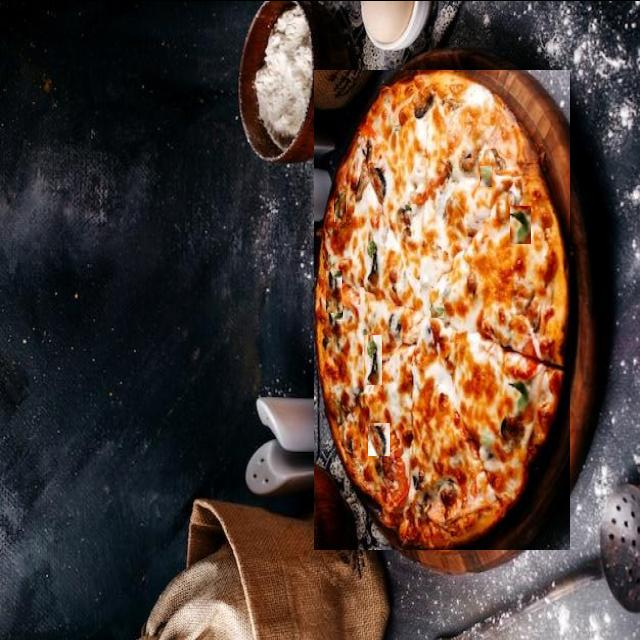basil: (364, 334, 382, 384), (510, 205, 531, 243), (368, 420, 391, 454), (326, 270, 342, 312), (434, 123, 458, 140), (334, 190, 346, 221), (480, 165, 492, 186), (330, 304, 343, 320), (431, 302, 444, 317)
pizza: (314, 69, 570, 549)
